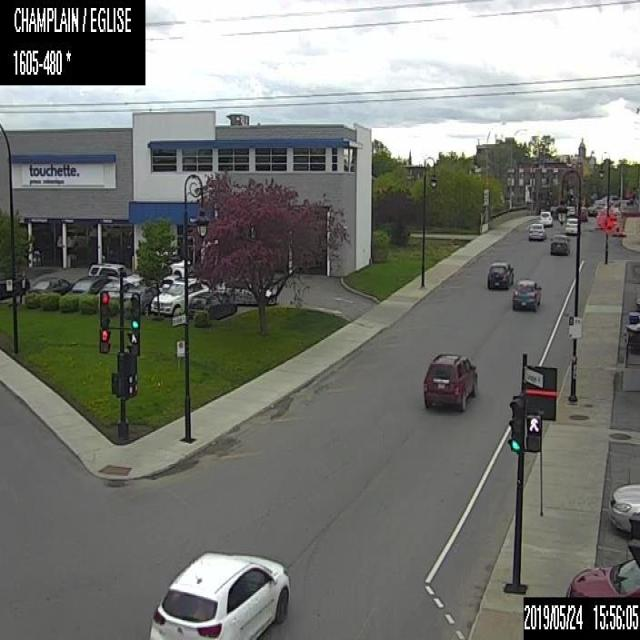construction: (602, 215, 614, 234)
vehicle: (147, 548, 290, 639), (422, 350, 478, 410), (566, 556, 639, 596), (150, 277, 208, 315), (609, 481, 639, 531), (219, 280, 276, 306), (88, 261, 145, 285), (189, 290, 237, 317), (123, 284, 162, 314), (511, 276, 542, 311), (67, 274, 112, 294), (486, 258, 514, 290), (0, 272, 30, 300), (29, 276, 74, 294), (97, 280, 134, 296), (168, 252, 190, 276), (549, 233, 570, 256), (624, 322, 639, 349), (159, 274, 179, 292), (528, 222, 545, 240), (564, 217, 577, 235), (538, 210, 552, 225), (627, 309, 639, 324), (575, 205, 586, 219), (586, 205, 597, 216), (550, 205, 559, 217), (566, 205, 574, 215), (634, 295, 639, 309)
